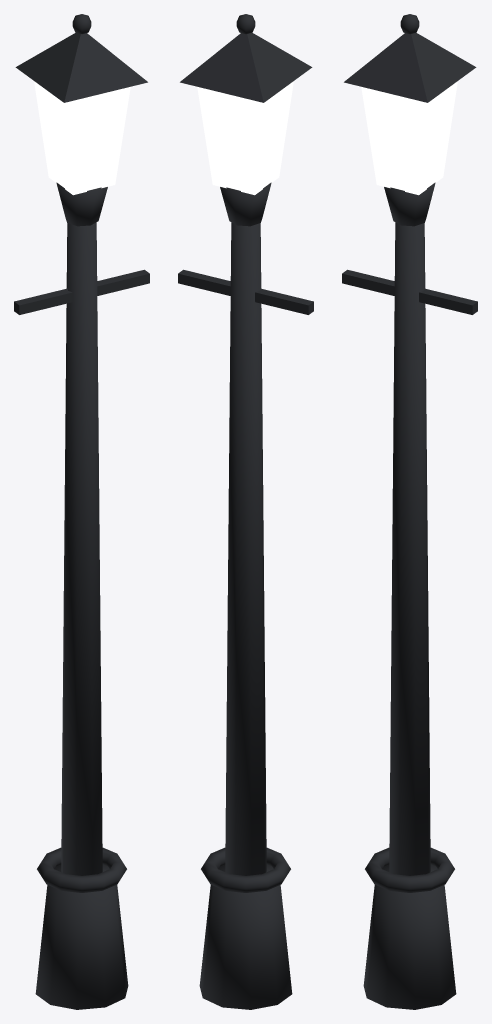
Rendered from cp_lamp.glb.
3 renders of one model, left to right at view 1: azimuth 30°, elevation 25°; view 2: azimuth 150°, elevation 25°; view 3: azimuth 330°, elevation 25°, orthographic.
Visible parts, largest first — view 1: city_cp_lamp; view 2: city_cp_lamp; view 3: city_cp_lamp.
Boxes of the visible parts, box(x1,y1,x2,y2) form: city_cp_lamp: box(14, 14, 149, 1009); city_cp_lamp: box(178, 14, 313, 1009); city_cp_lamp: box(342, 14, 477, 1009).
Size of the model in its own units: 0.7 by 5 by 0.4525.
Materials: 1 (1 with a texture image).
